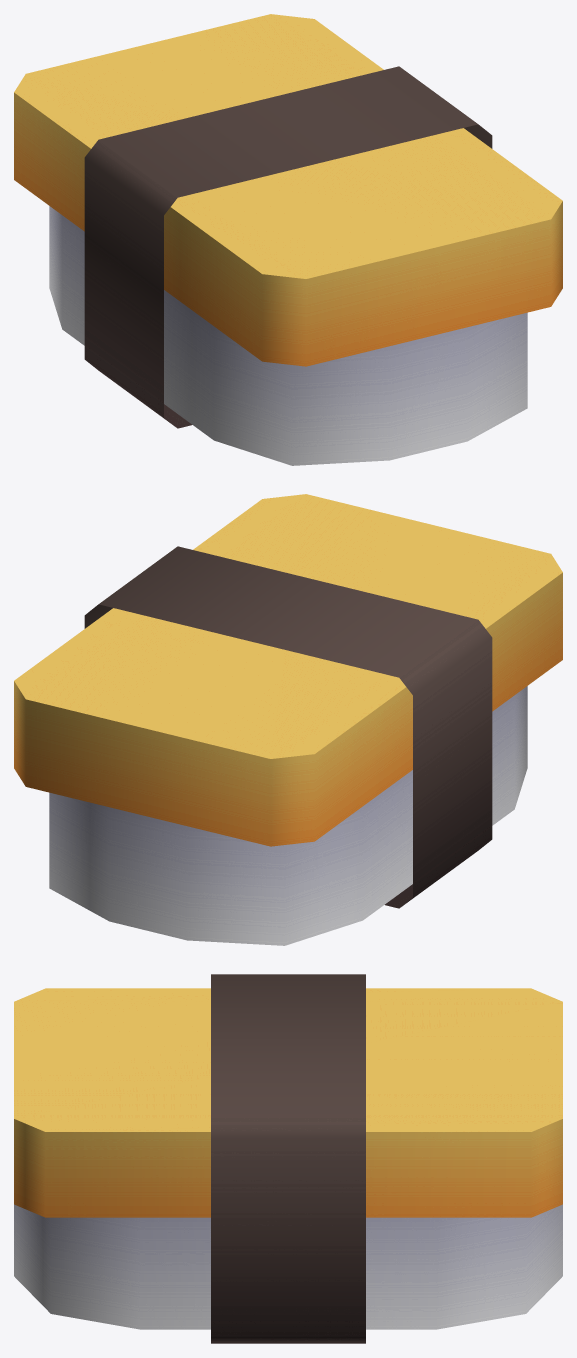
File: sushi-egg.glb
The picture shows the model from 3 angles, top to bottom: view 1: azimuth 30°, elevation 25°; view 2: azimuth 150°, elevation 25°; view 3: azimuth 270°, elevation 25°; orthographic projection. The views are drawn at different scales.
Parts seen in each view (by area): view 1: sushi-egg; view 2: sushi-egg; view 3: sushi-egg.
Part boxes in pixels (x1,y1,x2,y2): sushi-egg: (14,14,562,465); sushi-egg: (14,494,562,945); sushi-egg: (14,974,562,1343).
Size of the model in its own units: 0.1179 by 0.0792 by 0.1743.
Materials: 1 (1 with a texture image).
